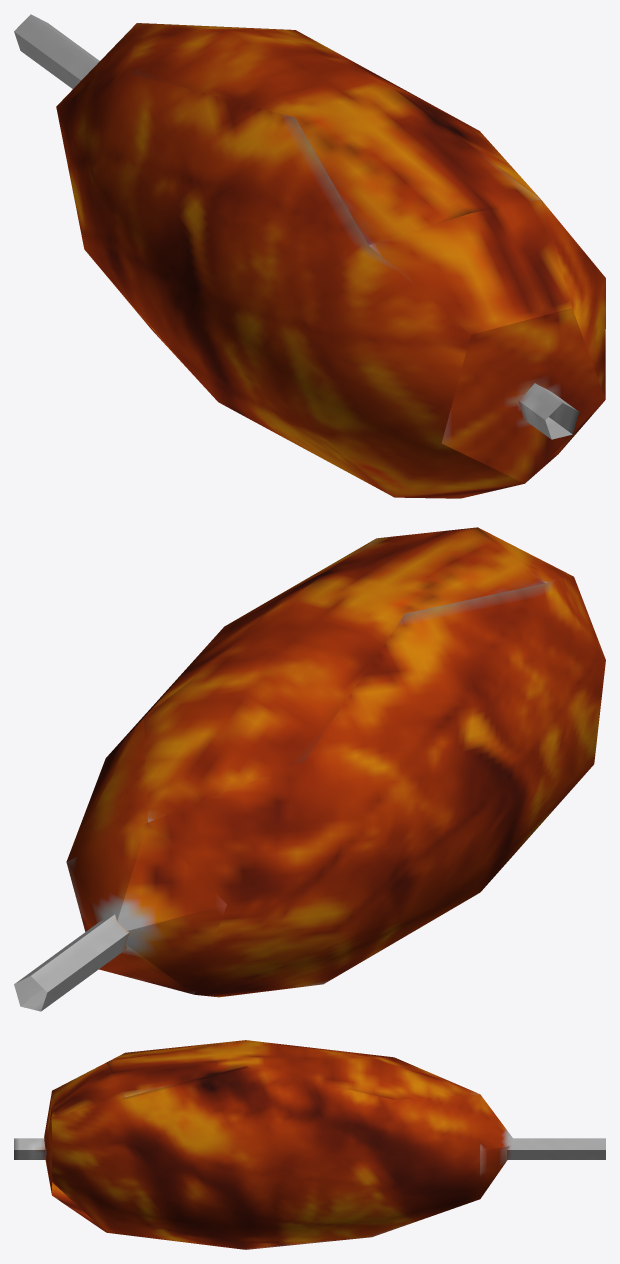
Rendered from Trompo.obj.
The picture shows the model from 3 angles, top to bottom: view 1: azimuth 30°, elevation 25°; view 2: azimuth 150°, elevation 25°; view 3: azimuth 270°, elevation 25°; orthographic projection. The views are drawn at different scales.
Visible parts, largest first — view 1: Trompo; view 2: Trompo; view 3: Trompo.
Boxes of the visible parts, x1,y1,x2,y2 form: Trompo: (14,14,605,498); Trompo: (14,527,605,1011); Trompo: (14,1040,605,1249).
Size of the model in its own units: 0.3332 by 0.319 by 0.9348.
